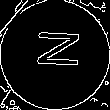N_W: (29, 34, 81, 76)
